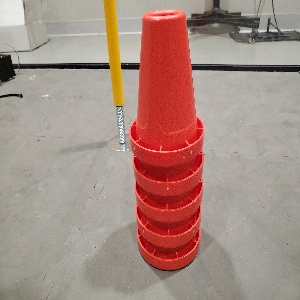Red_5: (126, 5, 214, 272)
